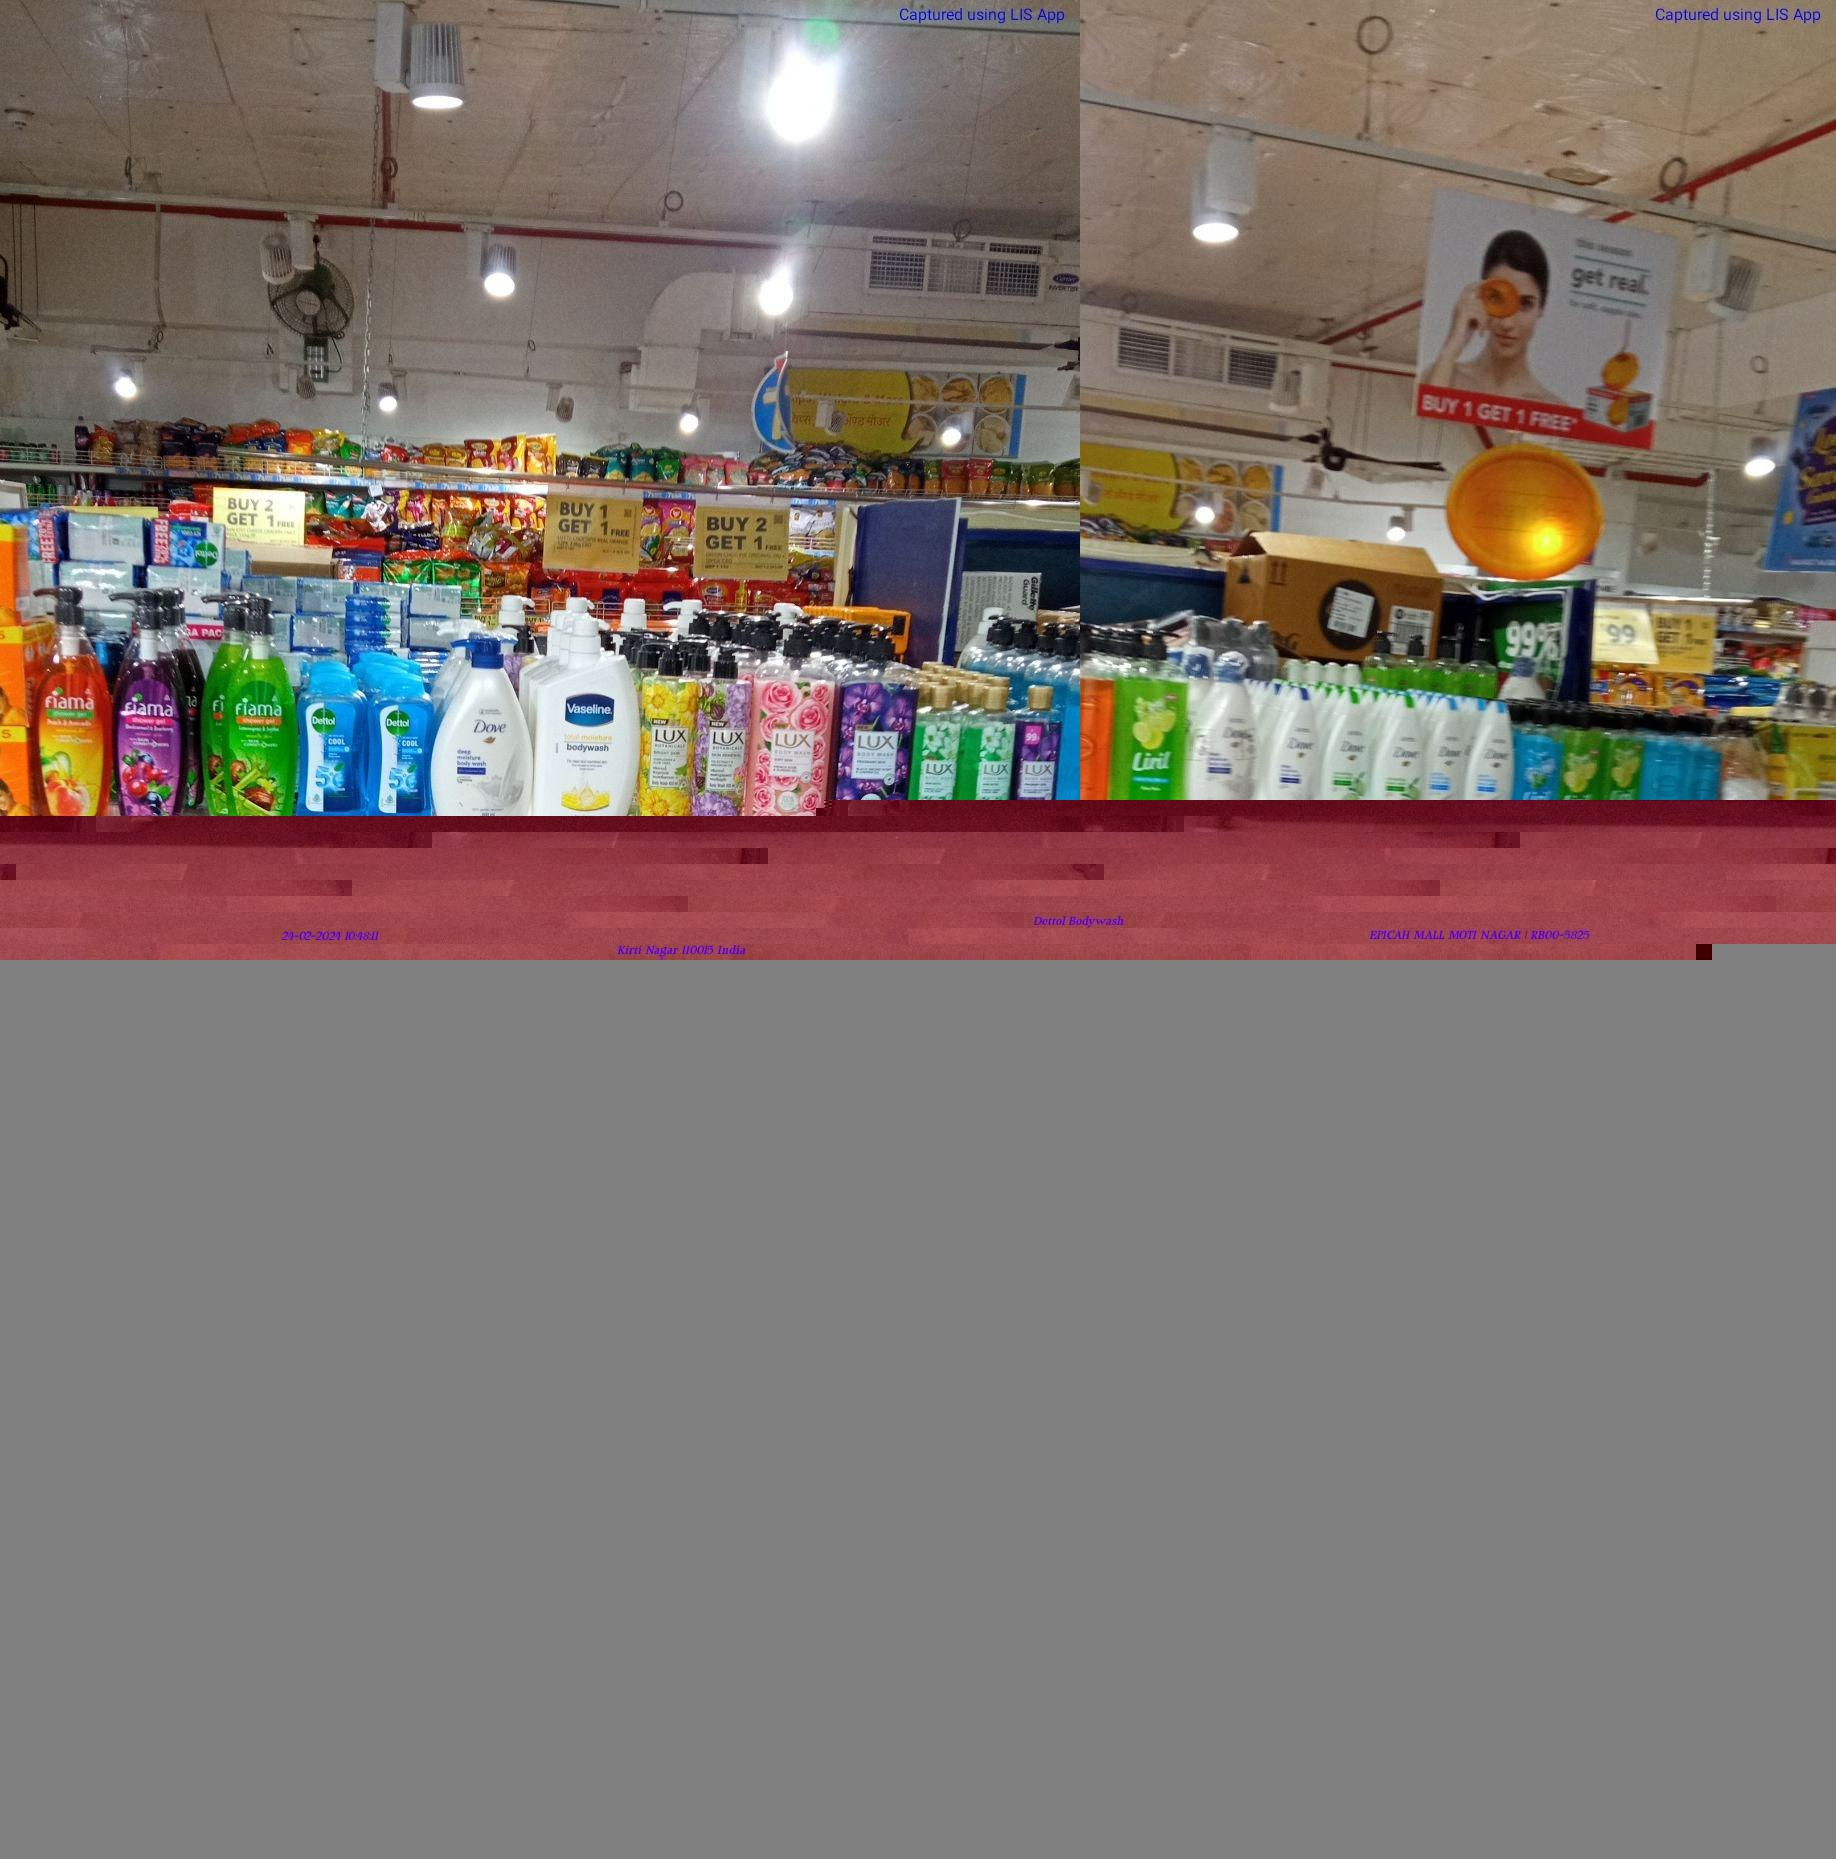Dettol_Bodywash_Cool: (296, 671, 365, 830), (368, 674, 437, 834)
Dove_Deep_Moisture_Body_Wash_250ML: (1268, 693, 1322, 832)
Dove_Gentle_Exfoliating_Body_Wash_250ML: (1468, 703, 1515, 837), (1426, 699, 1468, 834)
Dove_Refreshing_Body_Wash_250ML: (1372, 699, 1426, 832), (1323, 696, 1367, 830)
Liril_Cooling_Mint_Body_Wash_250ML: (1517, 709, 1557, 842)
Liril_Lime_and_Tea_Tree_Oil_Body_Wash_250ML: (1559, 709, 1601, 840)
Lux_Black_Orchid_Scent_and_Juniper_Oil_Body_Wash_245ML: (1016, 687, 1061, 849)
Lux_Body_Wash_Skin_Detox_Freesia_Scent_and_Alove_Vera_245ML: (908, 686, 958, 849), (963, 686, 1014, 849)
